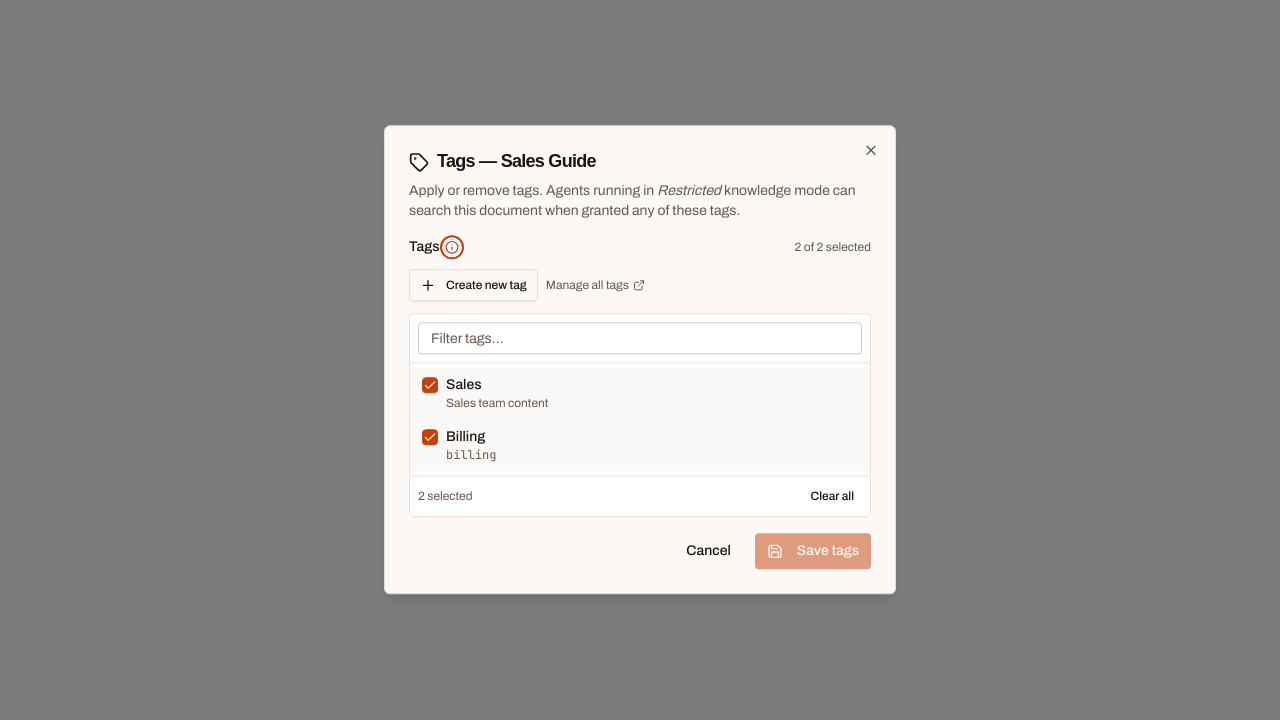
DocumentTagsModal › checkbox interactions › "Clear all" clears selected tags
The image size is (1280, 720).
expect the text "Sales" is shown: met, box [446,378,482,393]
"X selected" footer with "Clear all" button appears when tags are selected
Click the button "Clear all": (832, 497) [802,483,862,511]
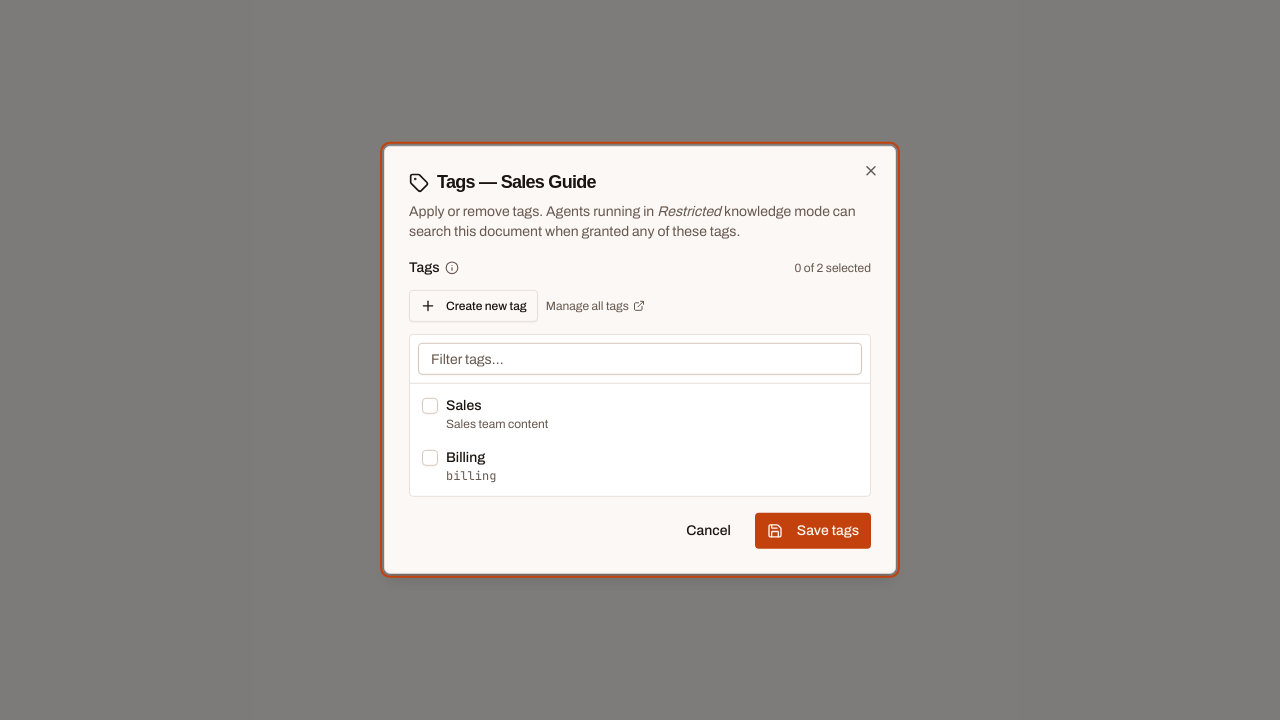
expect the button "Save tags" is enabled: met, box [755,513,871,549]
